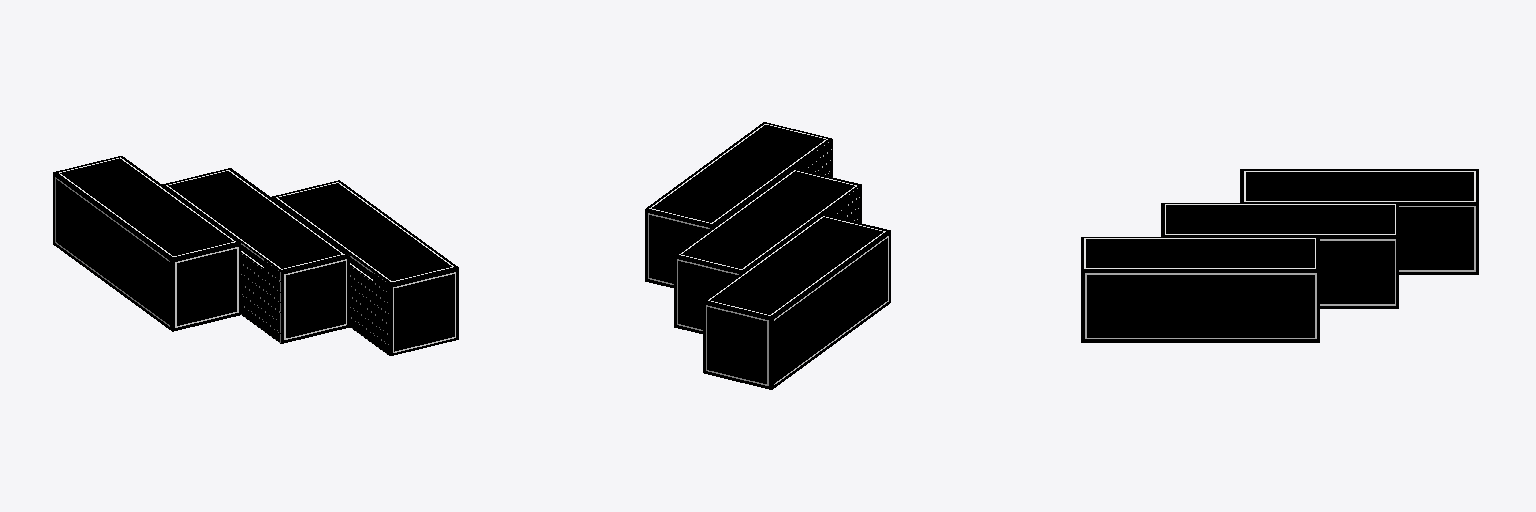
The picture shows the model from 3 angles: view 1: azimuth 30°, elevation 25°; view 2: azimuth 150°, elevation 25°; view 3: azimuth 270°, elevation 25°; orthographic projection.
Parts seen in each view (by area): view 1: bird_l_Cube.004; view 2: bird_l_Cube.004; view 3: bird_l_Cube.004.
Part boxes in pixels (left/top/right/bottom): bird_l_Cube.004: left=53, top=156, right=458, bottom=355; bird_l_Cube.004: left=645, top=122, right=890, bottom=389; bird_l_Cube.004: left=1081, top=169, right=1478, bottom=342.
Bounding box in the file's own units: 6 × 2 × 10.
3 materials, 1 textured.